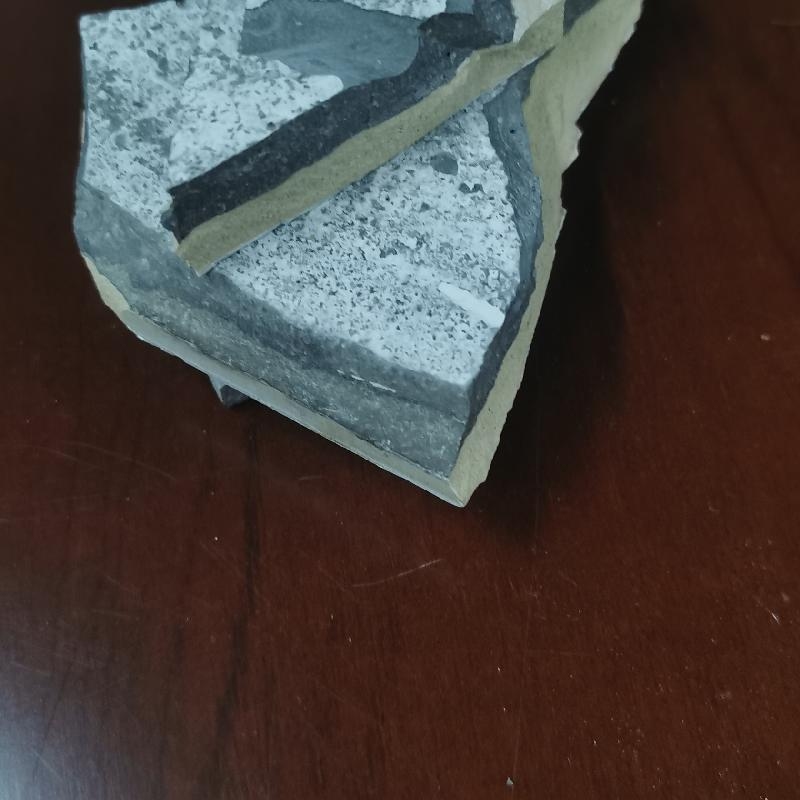tile: (58, 4, 651, 511)
